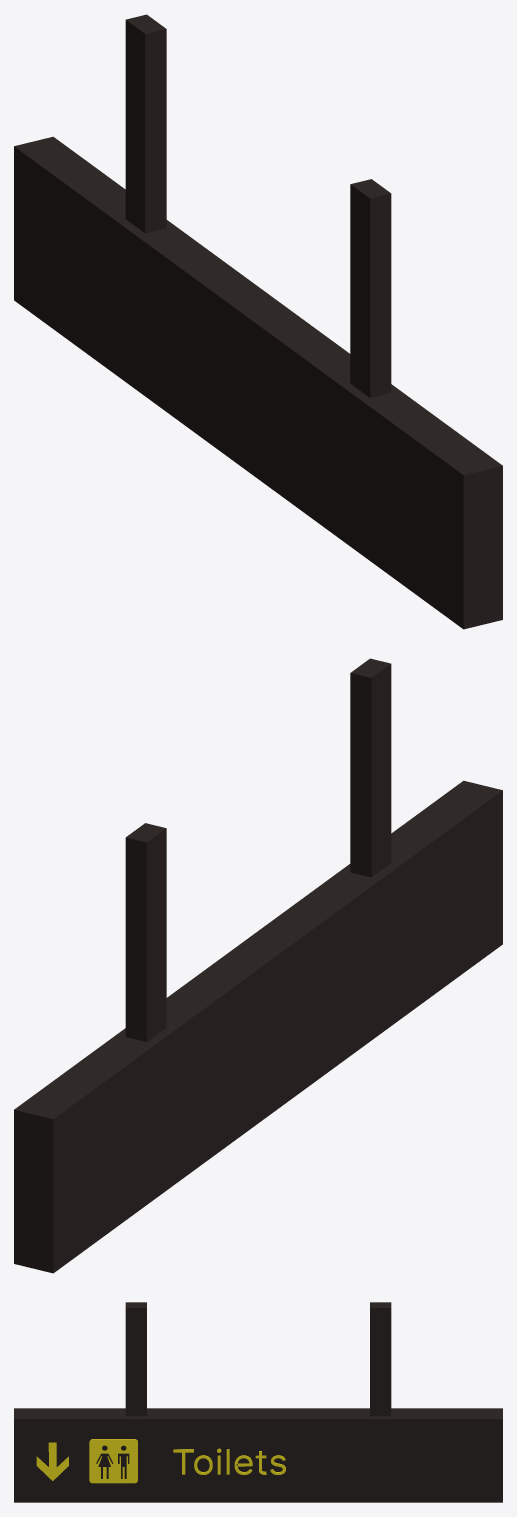
The model's file is bathroomSign.fbx.
The picture shows the model from 3 angles, top to bottom: view 1: azimuth 30°, elevation 25°; view 2: azimuth 150°, elevation 25°; view 3: azimuth 270°, elevation 25°; orthographic projection. The views are drawn at different scales.
Visible parts, largest first — view 1: Cube.008; view 2: Cube.008; view 3: Cube.008, Square.003, Text.001, arrow.004, BézierCurve.004.
Part boxes in pixels (box(x1,y1,x2,y2)): Cube.008: box(14, 14, 502, 629); Cube.008: box(14, 658, 502, 1273); Cube.008: box(14, 1302, 502, 1502); Square.003: box(89, 1439, 137, 1483); Text.001: box(194, 1448, 285, 1474); arrow.004: box(36, 1442, 68, 1480); BézierCurve.004: box(96, 1445, 129, 1478).
Size of the model in its own units: 2.47 by 20.19 by 46.55.
